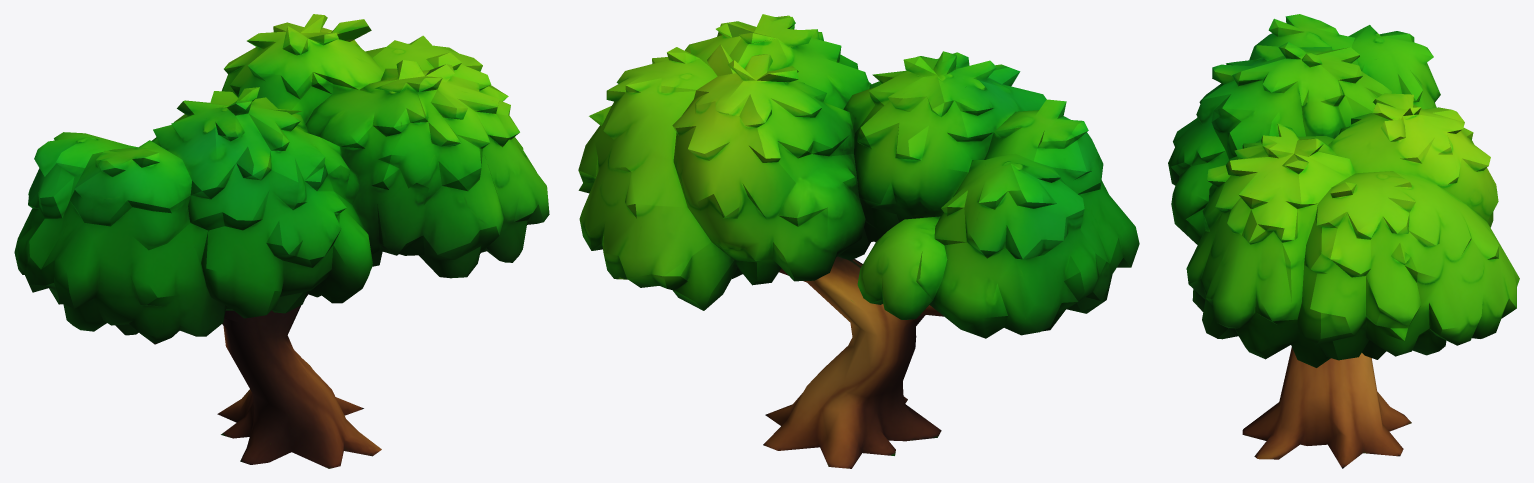
File: fantasy_tree.fbx
3 renders of one model, left to right at view 1: azimuth 30°, elevation 25°; view 2: azimuth 150°, elevation 25°; view 3: azimuth 270°, elevation 25°, orthographic. The views are drawn at different scales.
Parts seen in each view (by area): view 1: fantasy_tree; view 2: fantasy_tree; view 3: fantasy_tree.
Boxes of the visible parts, x1=… form: fantasy_tree: x1=14, y1=14, x2=549, y2=468; fantasy_tree: x1=578, y1=14, x2=1139, y2=468; fantasy_tree: x1=1168, y1=14, x2=1519, y2=468.
Size of the model in its own units: 100 by 74.56 by 65.36.
1 material, 1 textured.
